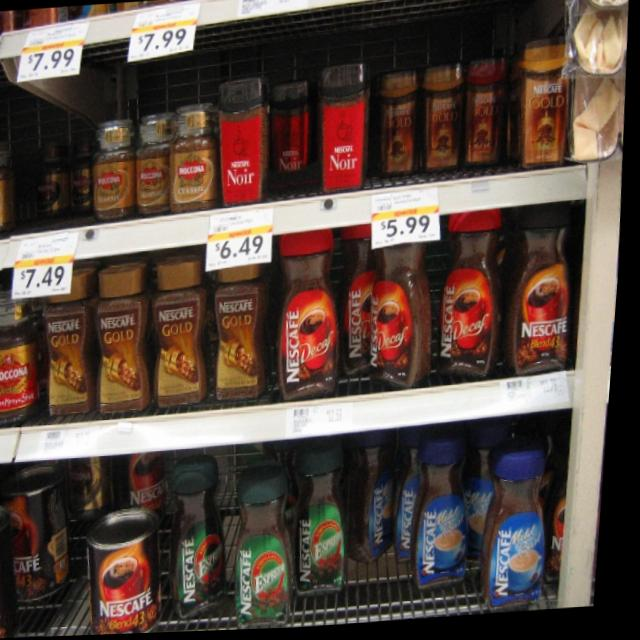q13: (511, 215, 586, 391)
q16: (428, 195, 526, 388), (265, 216, 358, 409), (365, 203, 450, 388), (328, 218, 399, 393)
